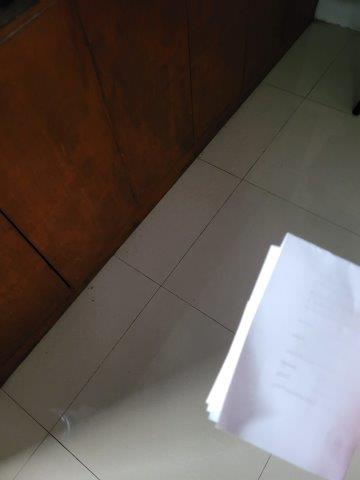kertas: (201, 236, 360, 480)
